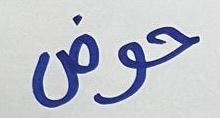character: (28, 8, 100, 114), (102, 38, 144, 106), (146, 23, 203, 71)
